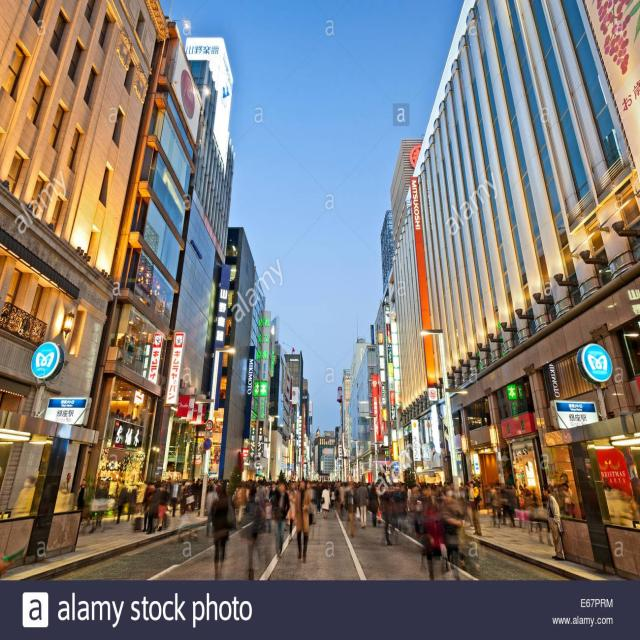body: (156, 474, 538, 580), (600, 470, 640, 526), (206, 479, 225, 580), (541, 486, 566, 562), (293, 478, 313, 564), (268, 478, 288, 560), (133, 483, 154, 533), (285, 478, 301, 542), (343, 479, 359, 539), (467, 480, 484, 536), (110, 405, 146, 431), (145, 482, 161, 535), (15, 474, 36, 511), (157, 481, 171, 533), (95, 482, 110, 529), (366, 483, 381, 528), (123, 329, 147, 357), (205, 484, 218, 535), (356, 479, 369, 529), (304, 480, 317, 528), (241, 484, 257, 522), (488, 481, 500, 527), (114, 482, 127, 524), (170, 475, 182, 519), (506, 481, 517, 528), (75, 478, 89, 514), (524, 482, 534, 532), (235, 484, 246, 526), (500, 481, 509, 527), (126, 488, 138, 522), (321, 485, 332, 519), (248, 484, 258, 516), (59, 472, 72, 494), (380, 486, 388, 521), (336, 480, 344, 512), (259, 479, 266, 515), (333, 483, 340, 519), (375, 482, 381, 524), (268, 481, 279, 503), (467, 416, 486, 428), (517, 483, 524, 510), (194, 475, 200, 506), (198, 479, 204, 506), (190, 477, 196, 485), (319, 480, 323, 488)
